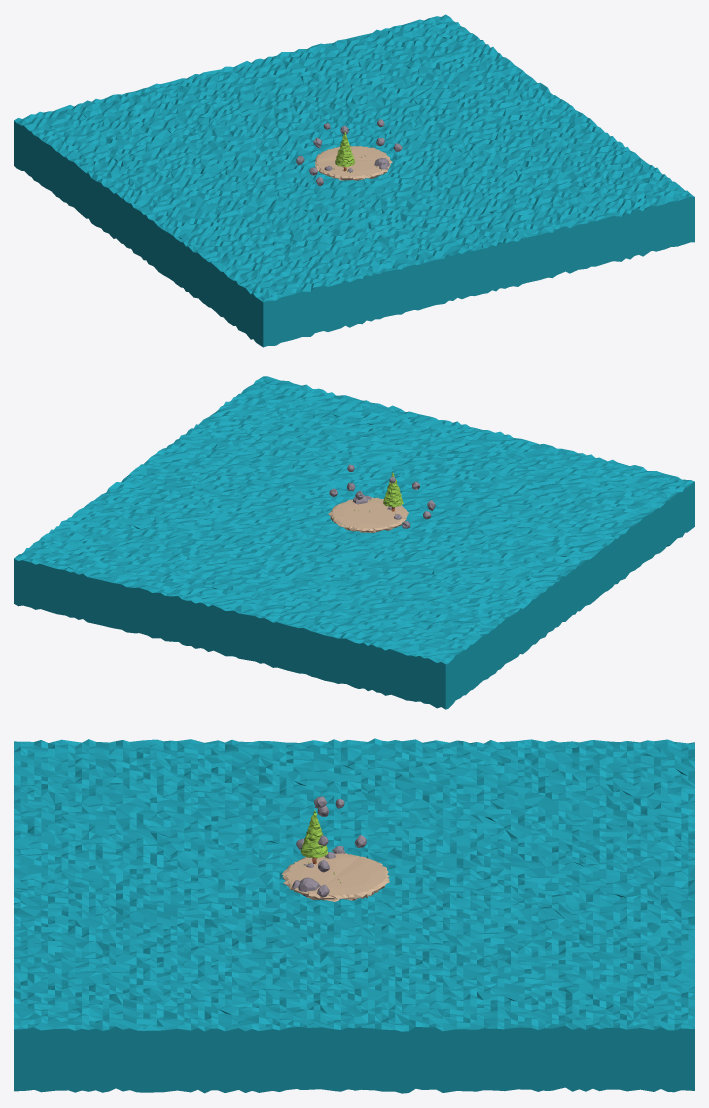
Rendered from island-scene.gltf.
3 views of the same model, one above another, from view 1: azimuth 30°, elevation 25°; view 2: azimuth 150°, elevation 25°; view 3: azimuth 270°, elevation 25° (orthographic). The views are drawn at different scales.
Parts seen in each view (by area): view 1: Ocean001; view 2: Ocean001; view 3: Ocean001, Cone001.
Boxes of the visible parts, x1,y1,x2,y2 form: Ocean001: (14, 14, 694, 347); Ocean001: (14, 376, 694, 709); Ocean001: (14, 738, 694, 1093); Cone001: (300, 809, 327, 858).
Bounding box in the file's own units: 100 × 21.07 × 100.
